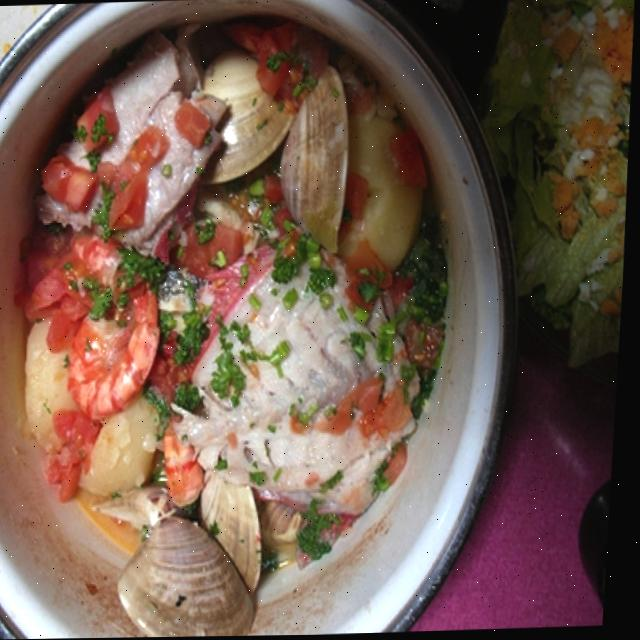汤锅炖物: (0, 3, 505, 640)
